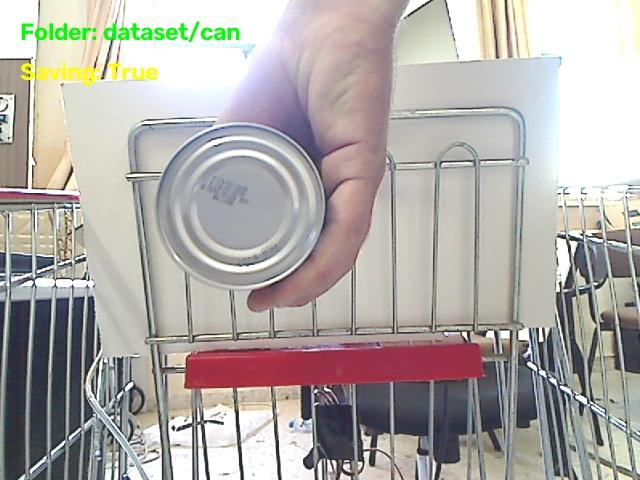can: (156, 123, 324, 288)
